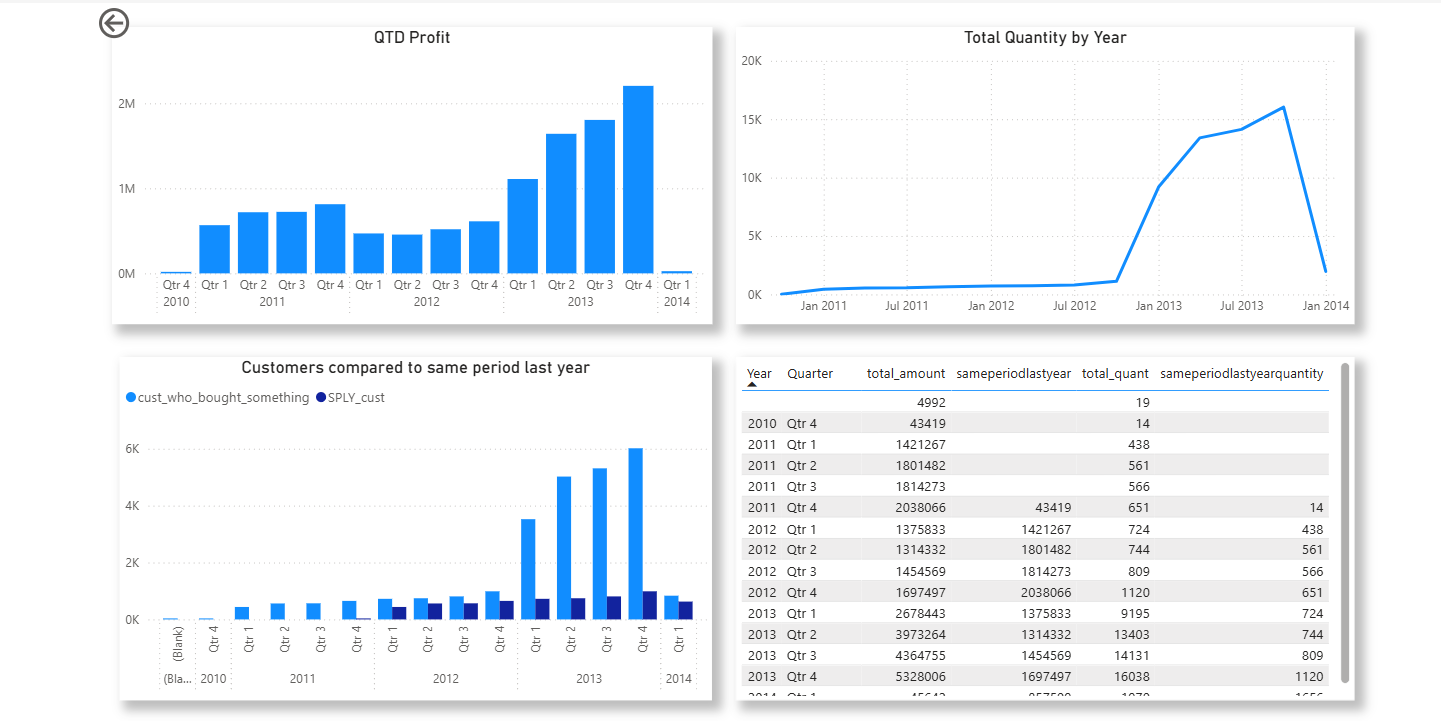

This screenshot's page, from the dashboard's own definition file:
{"tool":"powerbi","page":{"name":"Same_period_last_year","canvas":[1280,720],"ordinal":2},"visuals":[{"type":"clusteredColumnChart","title":"Customers compared to same period last year","fields":{"Category":["Calender.Date.Variation.Date Hierarchy.Year","Calender.Date.Variation.Date Hierarchy.Quarter"],"Y":["Table.cust_who_bought_something","Table.SPLY_cust"]},"box":[26,352,590,342],"z":0},{"type":"columnChart","title":"QTD Profit ","fields":{"Category":["Calender.Date.Variation.Date Hierarchy.Year","Calender.Date.Variation.Date Hierarchy.Quarter"],"Y":["Table.QTD_profit"]},"box":[18,24,598,296],"z":1000},{"type":"lineChart","title":"Total Quantity by Year","fields":{"Y":["Table.total_quant"],"Category":["Calender.Date.Variation.Date Hierarchy.Year","Calender.Date.Variation.Date Hierarchy.Quarter"]},"box":[640,24,616,296],"z":2000},{"type":"tableEx","fields":{"Values":["Calender.Date.Variation.Date Hierarchy.Year","Calender.Date.Variation.Date Hierarchy.Quarter","Table.total_amount","Table.sameperiodlastyear","Table.total_quant","Table.sameperiodlastyearquantity"]},"box":[640,352,616,342],"z":3000},{"type":"actionButton","box":[0,0,100,40],"z":3001}]}

Visuals, with their boxes on the page's 1280x720 design canvas (x1, y1, x2, y2). These are canvas units, not pixel positions in the 1441x721 screenshot, which may show the page scaled, cropped or inside an application window:
"Customers compared to same period last year" clusteredColumnChart: box=[26, 352, 616, 694]
"QTD Profit " columnChart: box=[18, 24, 616, 320]
"Total Quantity by Year" lineChart: box=[640, 24, 1256, 320]
tableEx - Calender.Date.Variation.Date Hierarchy.Year x Calender.Date.Variation.Date Hierarchy.Quarter: box=[640, 352, 1256, 694]
actionButton: box=[0, 0, 100, 40]
